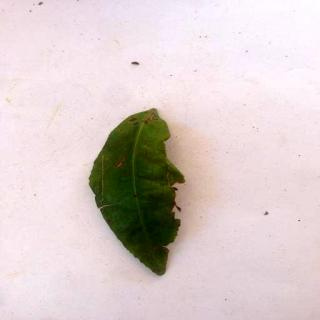Brown Blight: (89, 108, 186, 277)
